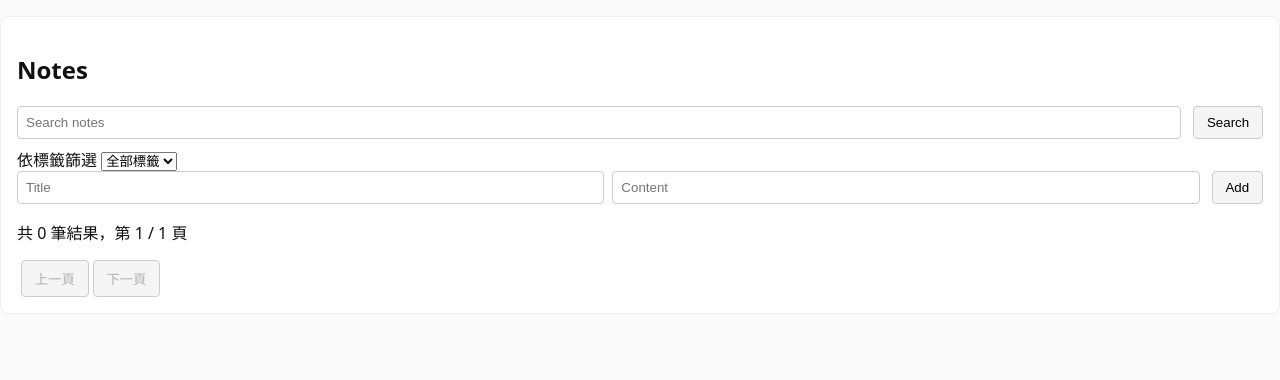
Scenario: NotesSection › searches notes by keyword and disables pagination at bounds
Step 1. Type "alpha" into the field labelled "Search notes" → (599,122), box x1=17 y1=106 x2=1181 y2=139
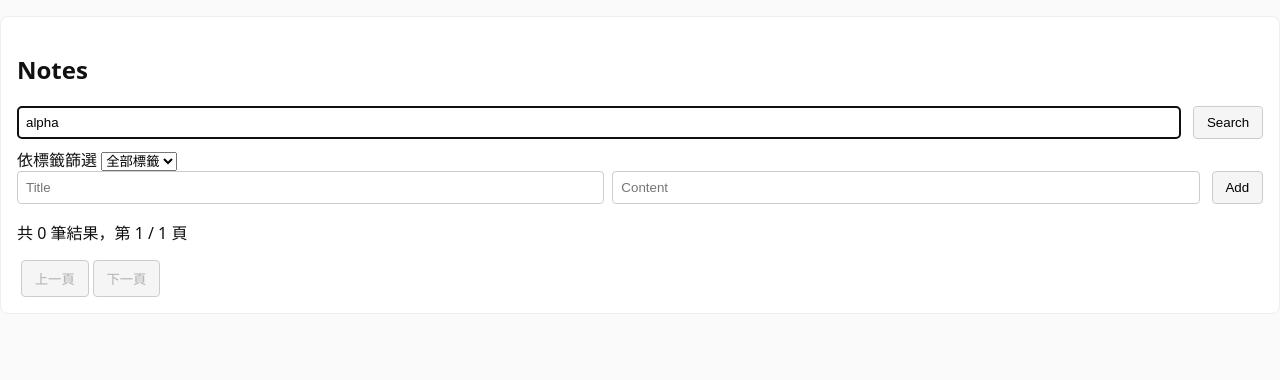
Step 2. Click the button "Search" → (1228,122), box x1=1193 y1=106 x2=1263 y2=139
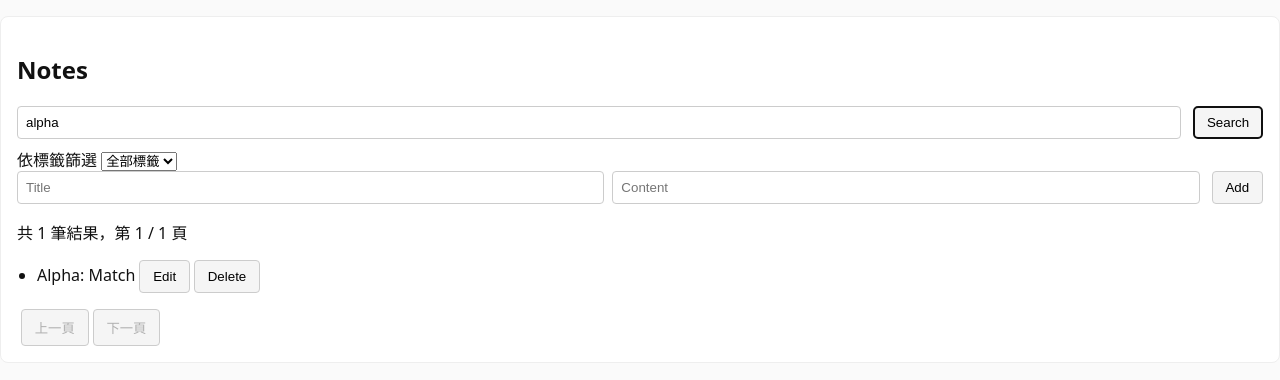
expect the button "上一頁" is disabled: met, box x1=21 y1=309 x2=89 y2=346
expect the list item "Alpha: Match Edit Delete" is shown: met, box x1=37 y1=260 x2=260 y2=293
